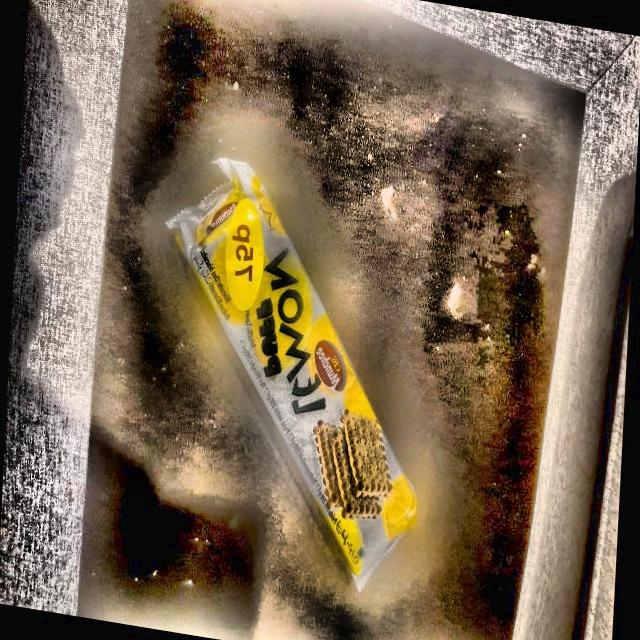lemon puff: (175, 152, 416, 581)
